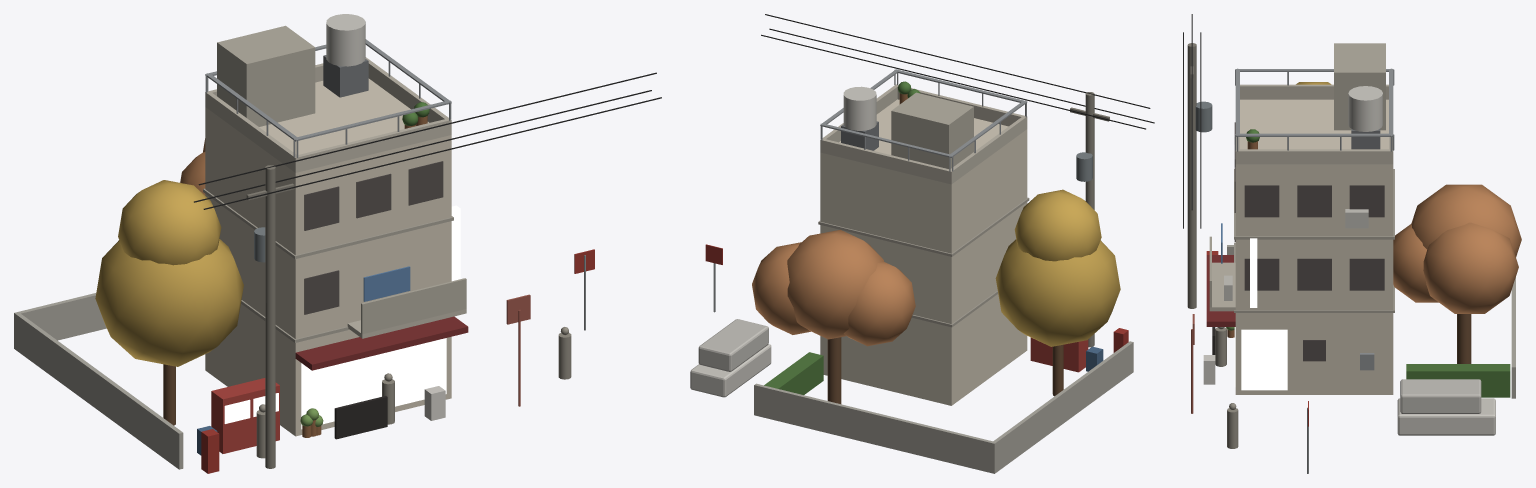
File: hero_blockout.glb
The picture shows the model from 3 angles, left to right: view 1: azimuth 30°, elevation 25°; view 2: azimuth 150°, elevation 25°; view 3: azimuth 270°, elevation 25°; orthographic projection. The views are drawn at different scales.
Visible parts, largest first — view 1: _hero_blockout; view 2: _hero_blockout; view 3: _hero_blockout.
Part boxes in pixels (x1,y1,x2,y2): _hero_blockout: (14,14,661,473); _hero_blockout: (690,14,1154,473); _hero_blockout: (1183,14,1521,473).
Size of the model in its own units: 16.94 by 11.15 by 11.71.
